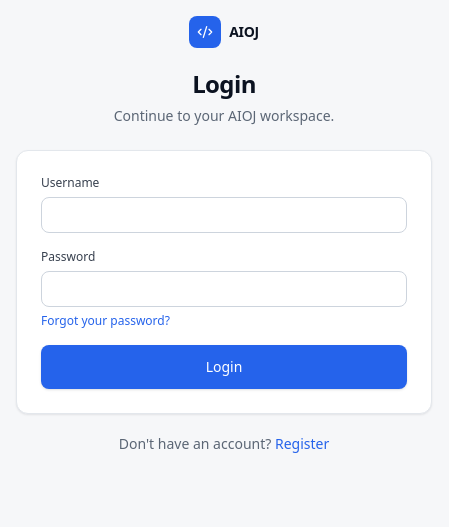
Test: surfaces a login error and keeps the form on screen
This screenshot has width=449, height=527.
In the field labelled "Username": coordinates (224, 215) [41,197,407,233], type "alice"
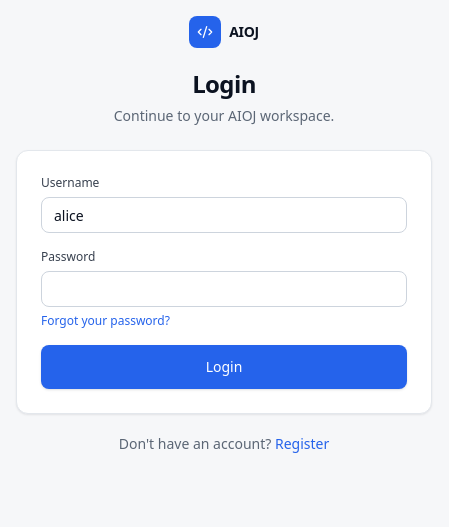
In the password field labelled "Password": coordinates (224, 289) [41,271,407,307], type "wrong"
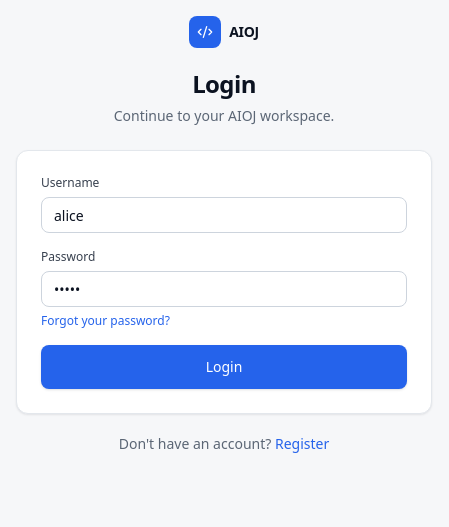
Click the button "Login": coordinates (224, 367) [41,345,407,389]
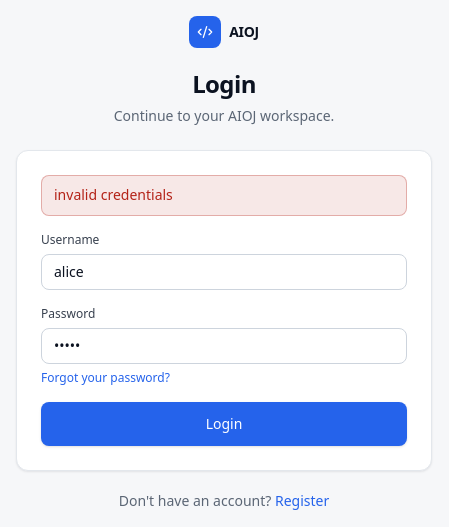
expect the button "Login" is shown: met, box [41,402,407,446]
expect the message reads "invalid credentials": met, box [54,185,173,204]
